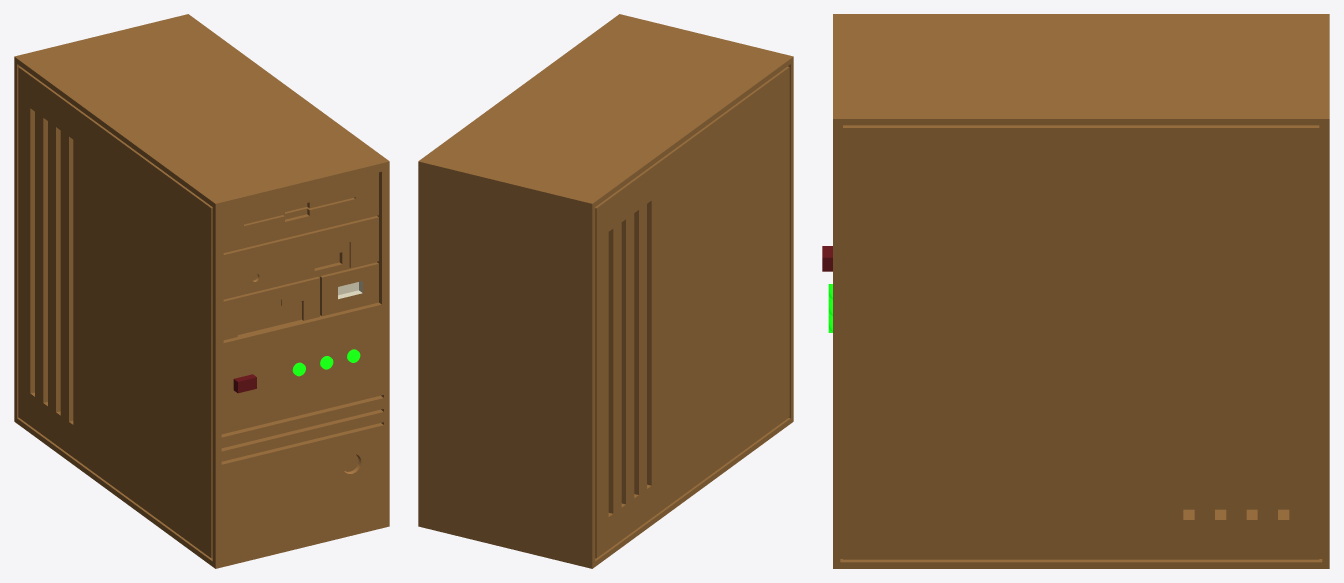
File: workstation_tier2.fbx
3 views of the same model, side by side, from view 1: azimuth 30°, elevation 25°; view 2: azimuth 150°, elevation 25°; view 3: azimuth 270°, elevation 25° (orthographic). The views are drawn at different scales.
Visible parts, largest first — view 1: Cube; view 2: Cube; view 3: Cube.
Part boxes in pixels (box(x1,y1,x2,y2)): Cube: box(14, 14, 389, 568); Cube: box(418, 14, 793, 568); Cube: box(833, 14, 1329, 568).
Size of the model in its own units: 0.4262 by 0.8533 by 0.8713.
